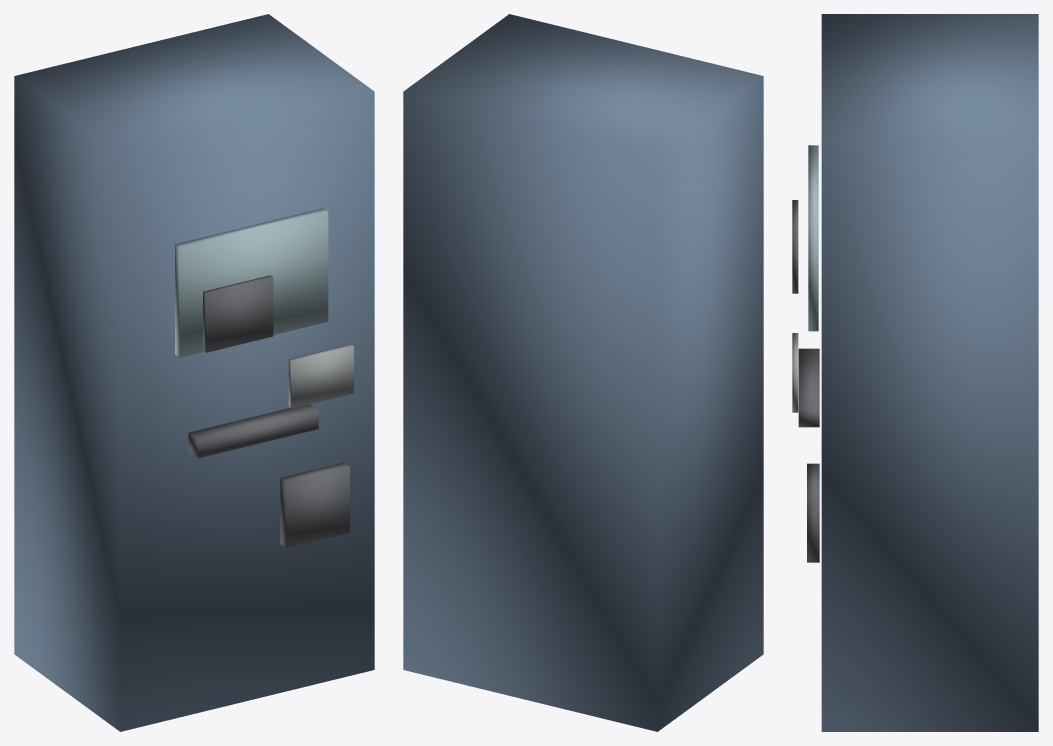
File: ticket_vending_machine__weathered.glb
3 renders of one model, left to right at view 1: azimuth 30°, elevation 25°; view 2: azimuth 150°, elevation 25°; view 3: azimuth 270°, elevation 25°, orthographic. The views are drawn at different scales.
Visible parts, largest first — view 1: world; view 2: world; view 3: world.
Part boxes in pixels (x1,y1,x2,y2): world: [14, 14, 374, 731]; world: [403, 14, 763, 731]; world: [792, 14, 1038, 731].
Size of the model in its own units: 0.72 by 1.56 by 0.5902.
